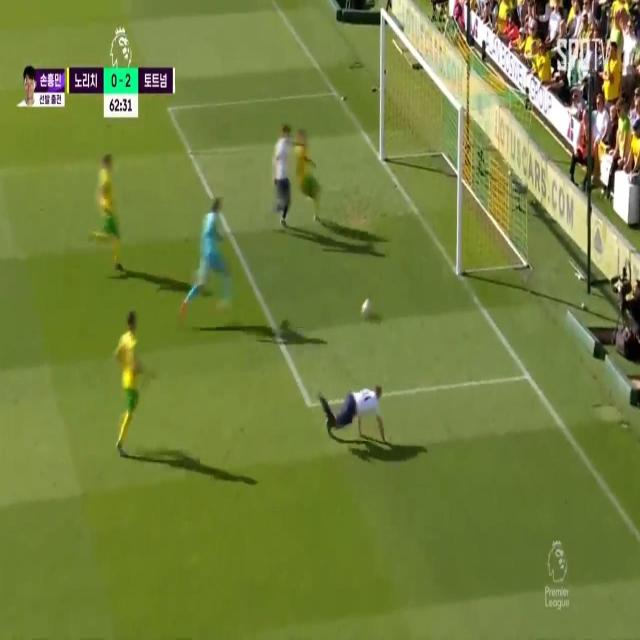ball: (360, 295, 376, 319)
player: (320, 380, 384, 437), (98, 150, 122, 264), (119, 307, 139, 441), (292, 124, 316, 233), (273, 122, 293, 223)
